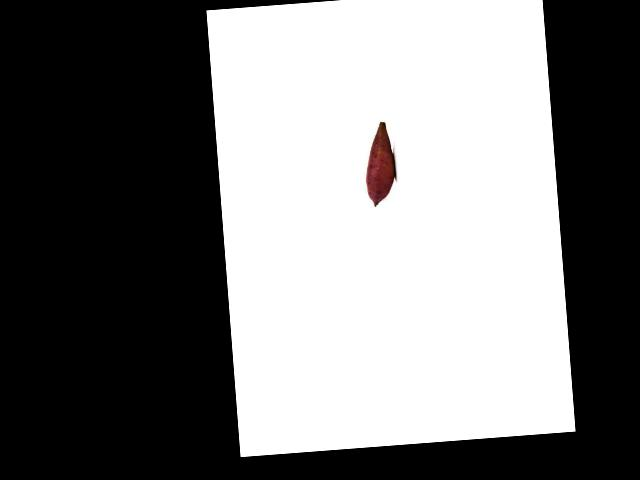sweet_potato: (362, 121, 396, 207)
